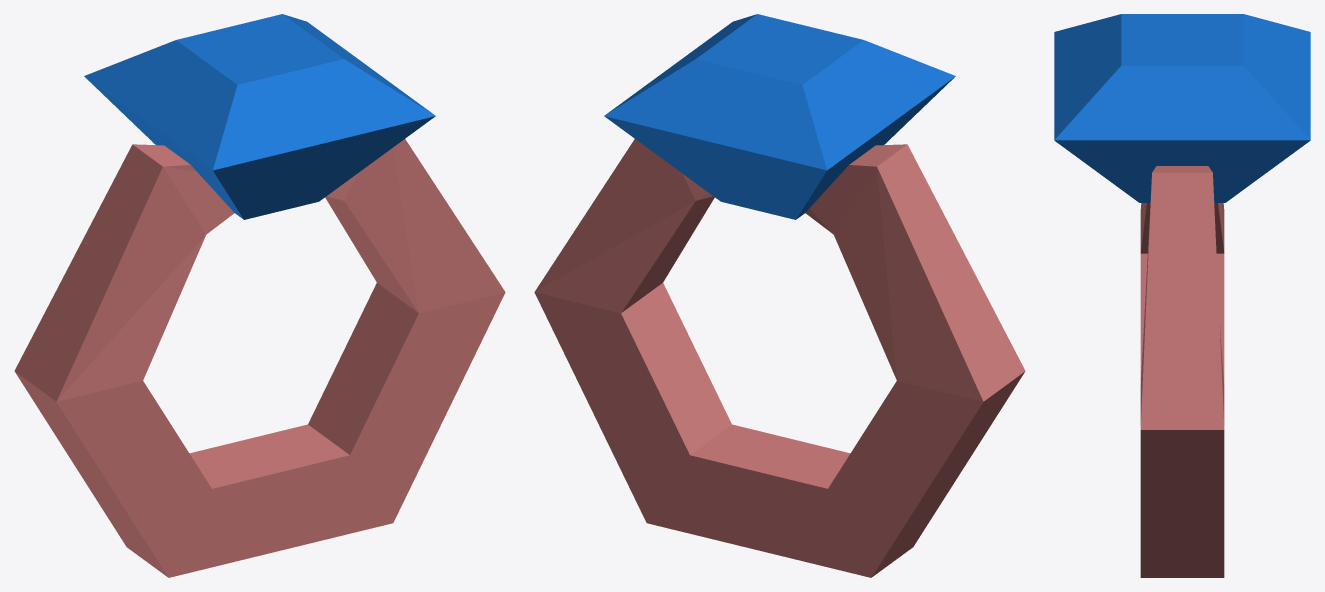
Rendered from SM_ring_2.fbx.
3 views of the same model, side by side, from view 1: azimuth 30°, elevation 25°; view 2: azimuth 150°, elevation 25°; view 3: azimuth 270°, elevation 25° (orthographic).
Visible parts, largest first — view 1: Tube_9; view 2: Tube_9; view 3: Tube_9.
Part boxes in pixels (x1,y1,x2,y2): Tube_9: (14, 14, 505, 577); Tube_9: (534, 14, 1025, 577); Tube_9: (1054, 14, 1310, 577).
Bounding box in the file's own units: 3.39 × 3.5 × 1.68.
